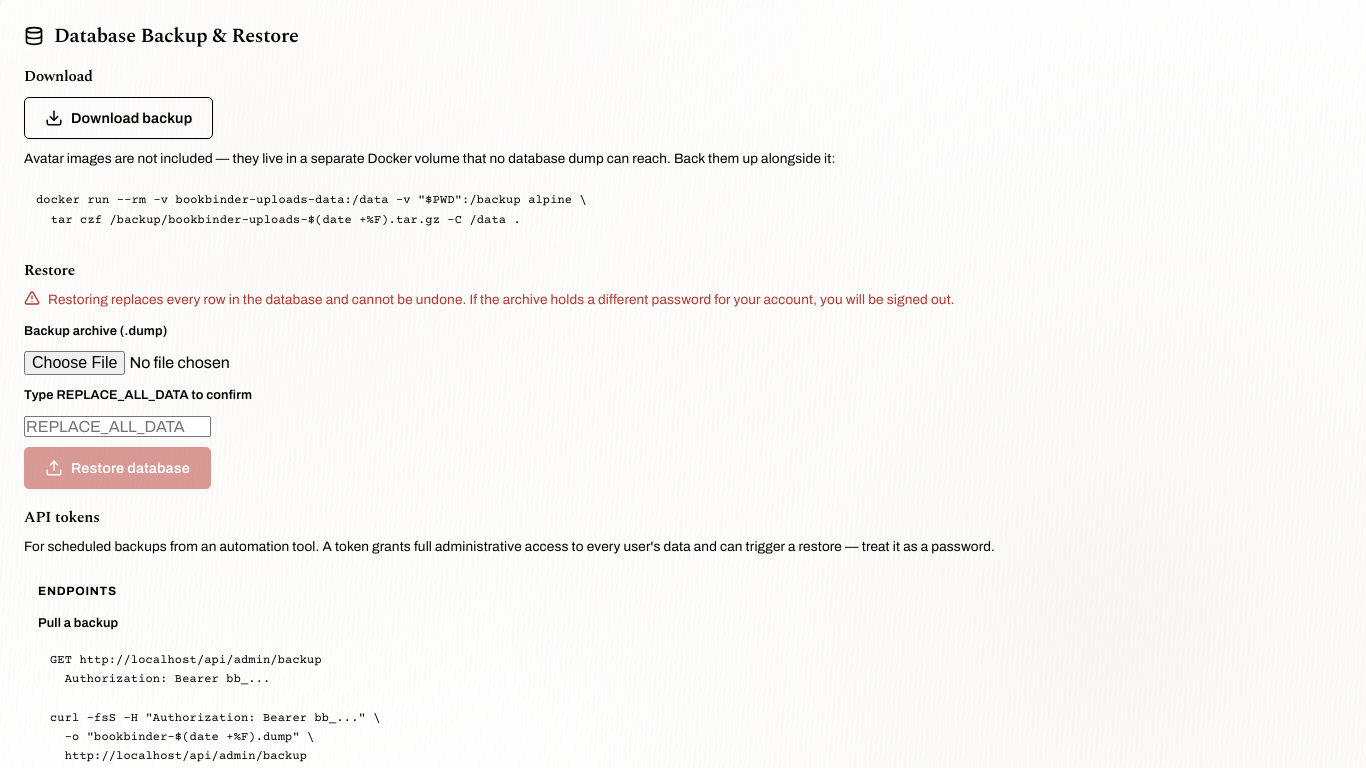
Test: Banner exclusivity (M10) › clears a success notice when a later action fails, so both banners never show at once
Click the button "Download backup" at (119, 118), box [24,97,213,139]
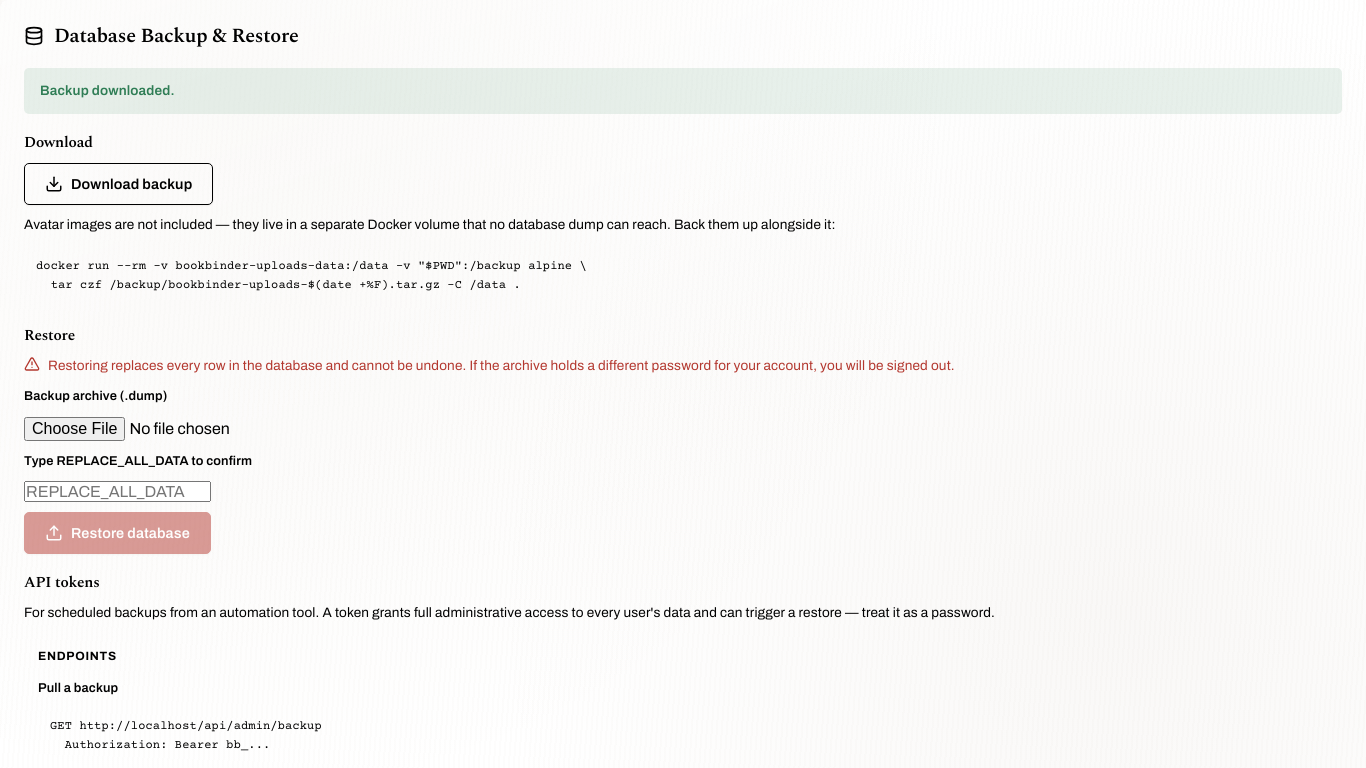
Now the text "Backup downloaded." is shown, box [24,68,1342,114]
Click the button "Download backup" at (119, 184), box [24,163,213,205]
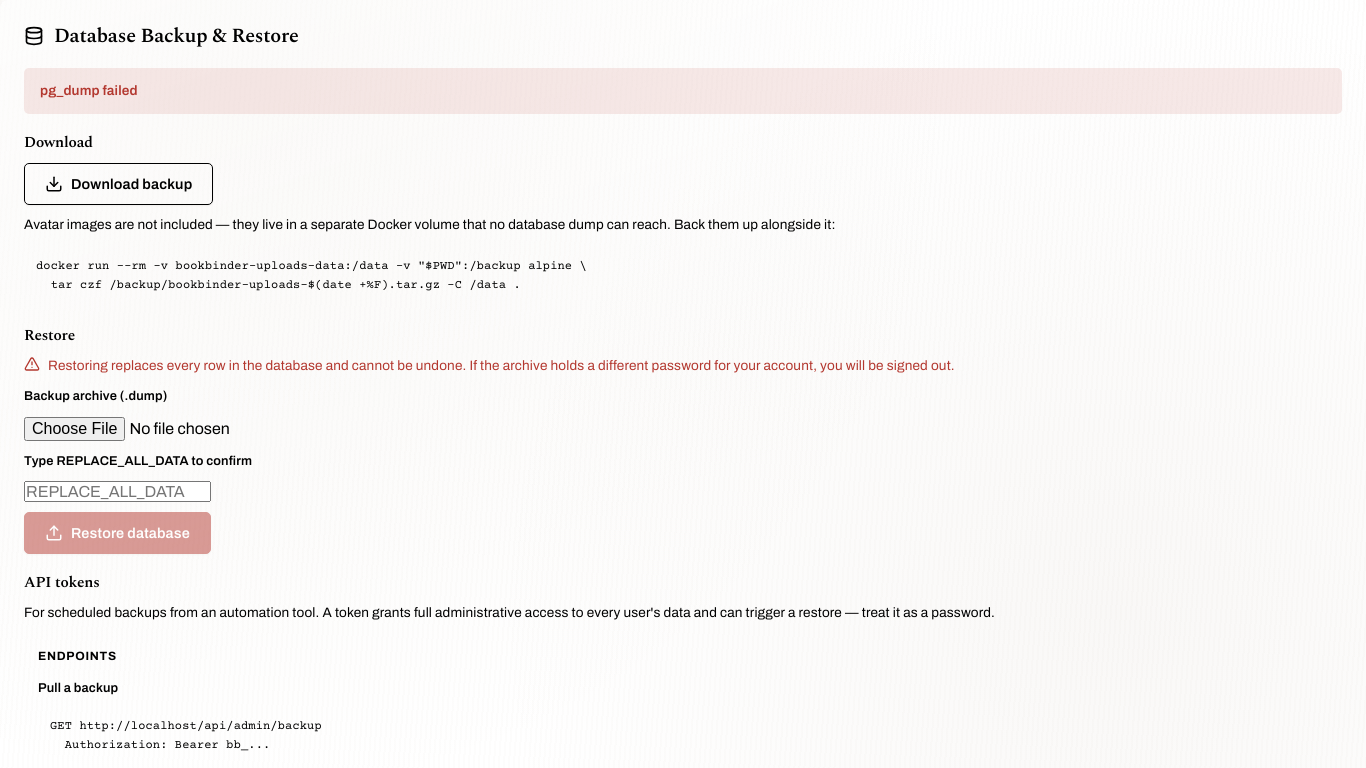
Now the text "pg_dump failed" is shown, box [24,68,1342,114]
Now the text "Backup downloaded" is gone
